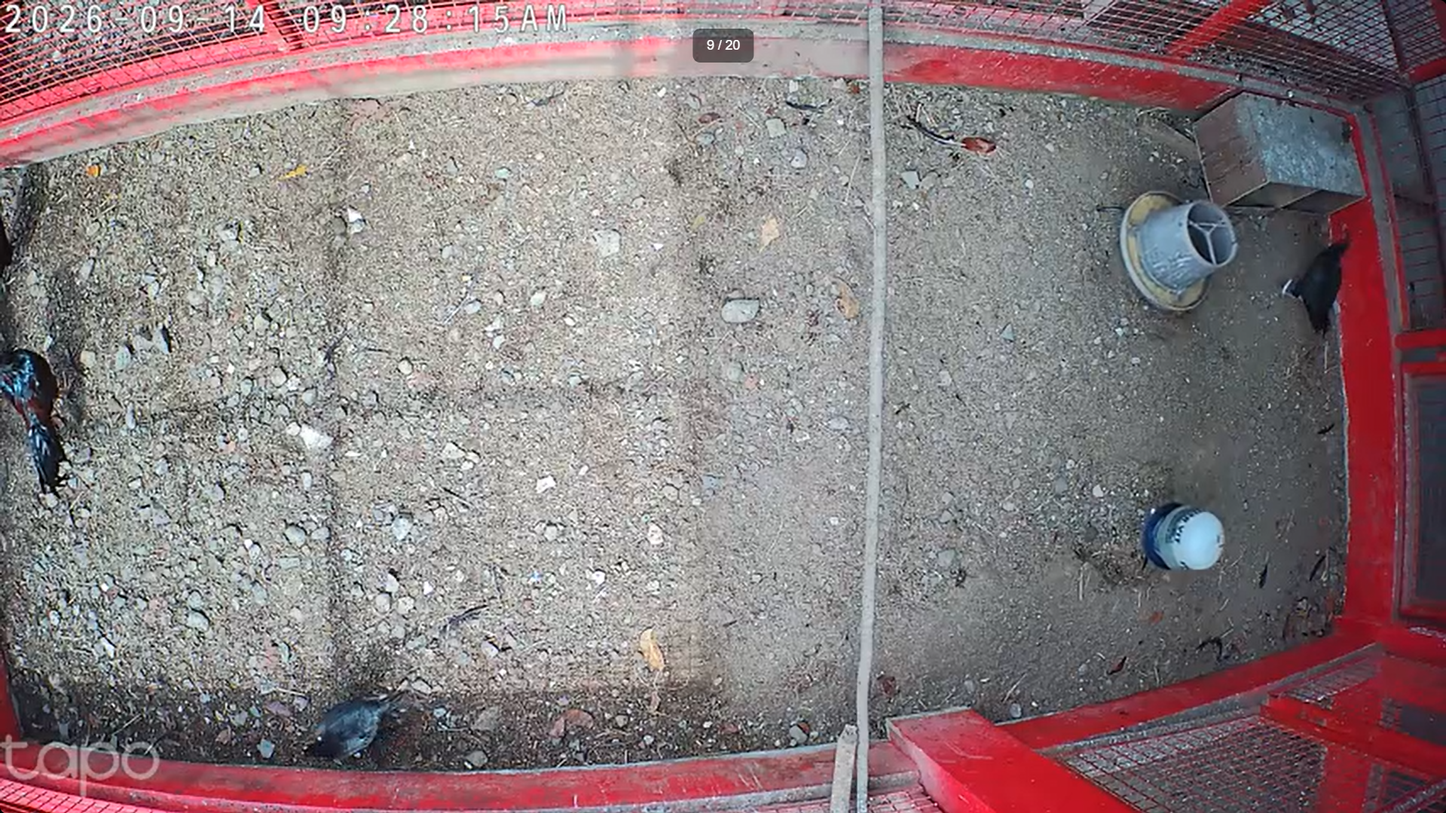Chicken: (298, 683, 410, 762), (1280, 220, 1353, 338)
